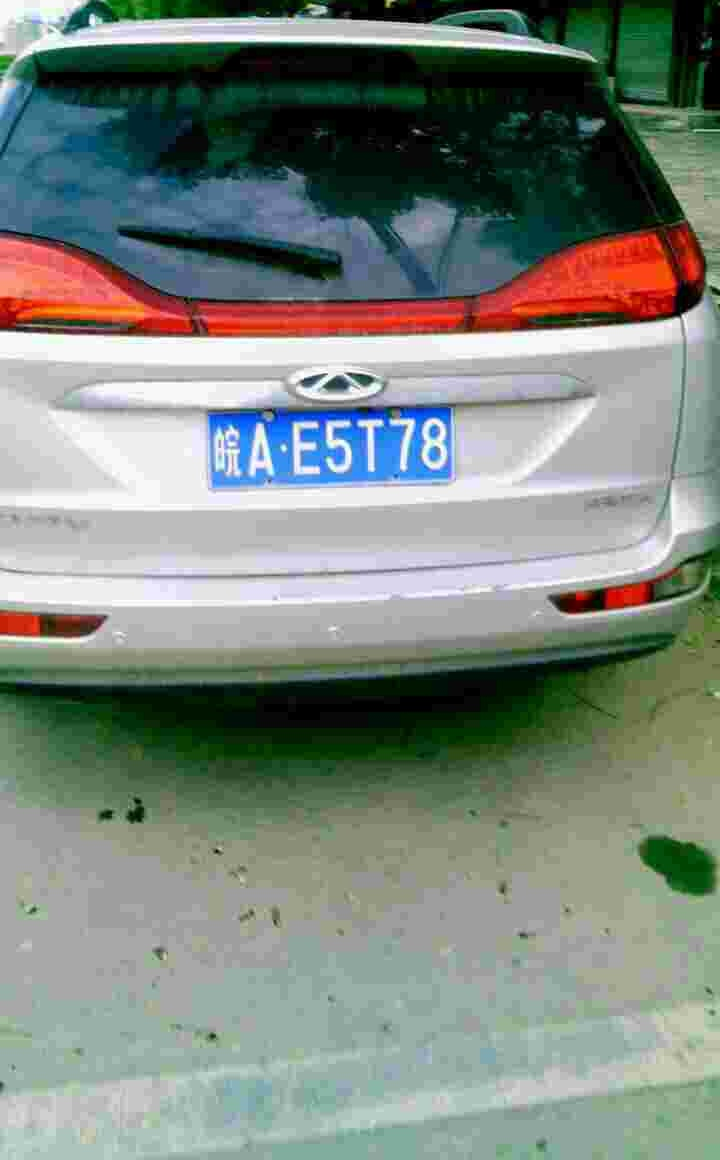plate: (210, 400, 461, 494)
